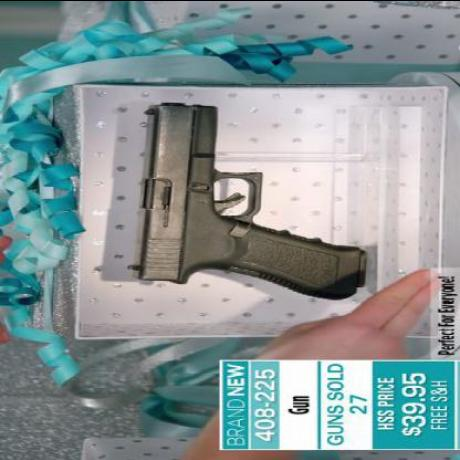weapon: (126, 98, 368, 298)
